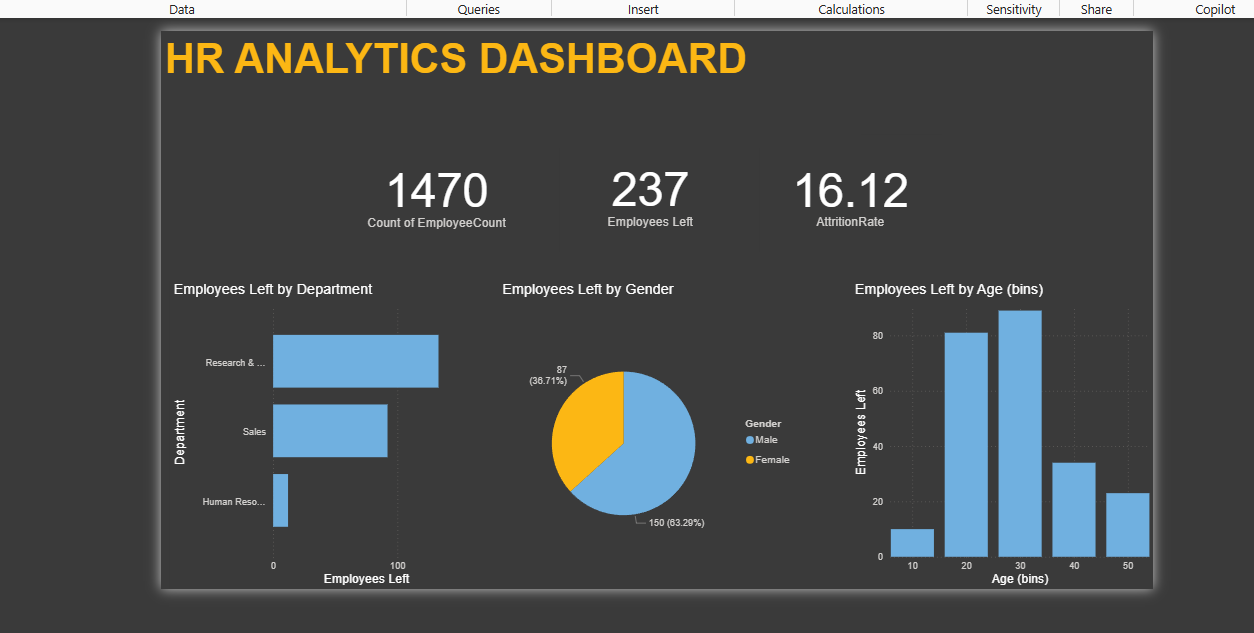

This screenshot's page, from the dashboard's own definition file:
{"tool":"powerbi","page":{"name":"Page 1","canvas":[1280,720],"ordinal":0},"visuals":[{"type":"card","fields":{"Values":["WA_Fn-UseC_-HR-Employee-Attrition (1).AttritionRate"]},"box":[773.3,133.3,234.1,151.3],"z":0},{"type":"card","fields":{"Values":["CountNonNull(WA_Fn-UseC_-HR-Employee-Attrition (1).EmployeeCount)"]},"box":[238.9,135.7,234.1,150.1],"z":1000},{"type":"card","fields":{"Values":["WA_Fn-UseC_-HR-Employee-Attrition (1).Employees Left"]},"box":[515.1,134.5,234.1,150.1],"z":1001},{"type":"barChart","fields":{"Category":["WA_Fn-UseC_-HR-Employee-Attrition (1).Department"],"Y":["WA_Fn-UseC_-HR-Employee-Attrition (1).Employees Left"]},"box":[12,321.8,390.2,398.6],"z":1002},{"type":"pieChart","fields":{"Category":["WA_Fn-UseC_-HR-Employee-Attrition (1).Gender"],"Y":["WA_Fn-UseC_-HR-Employee-Attrition (1).Employees Left"]},"box":[435.9,321.8,390.2,398.6],"z":1003},{"type":"clusteredColumnChart","fields":{"Y":["WA_Fn-UseC_-HR-Employee-Attrition (1).Employees Left"],"Category":["WA_Fn-UseC_-HR-Employee-Attrition (1).Age (bins)"]},"box":[889.8,321.8,390.2,398.6],"z":1004},{"type":"textbox","box":[0,0,903,150.1],"z":1005}]}

Visuals, with their boxes on the page's 1280x720 design canvas (x1, y1, x2, y2). These are canvas units, not pixel positions in the 1254x633 screenshot, which may show the page scaled, cropped or inside an application window:
card - WA_Fn-UseC_-HR-Employee-Attrition (1).AttritionRate: box=[773, 133, 1007, 285]
card - CountNonNull(WA_Fn-UseC_-HR-Employee-Attrition (1).EmployeeCount): box=[239, 136, 473, 286]
card - WA_Fn-UseC_-HR-Employee-Attrition (1).Employees Left: box=[515, 134, 749, 285]
barChart - WA_Fn-UseC_-HR-Employee-Attrition (1).Department x WA_Fn-UseC_-HR-Employee-Attrition (1).Employees Left: box=[12, 322, 402, 720]
pieChart - WA_Fn-UseC_-HR-Employee-Attrition (1).Gender x WA_Fn-UseC_-HR-Employee-Attrition (1).Employees Left: box=[436, 322, 826, 720]
clusteredColumnChart - WA_Fn-UseC_-HR-Employee-Attrition (1).Employees Left x WA_Fn-UseC_-HR-Employee-Attrition (1).Age (bins): box=[890, 322, 1280, 720]
textbox: box=[0, 0, 903, 150]
